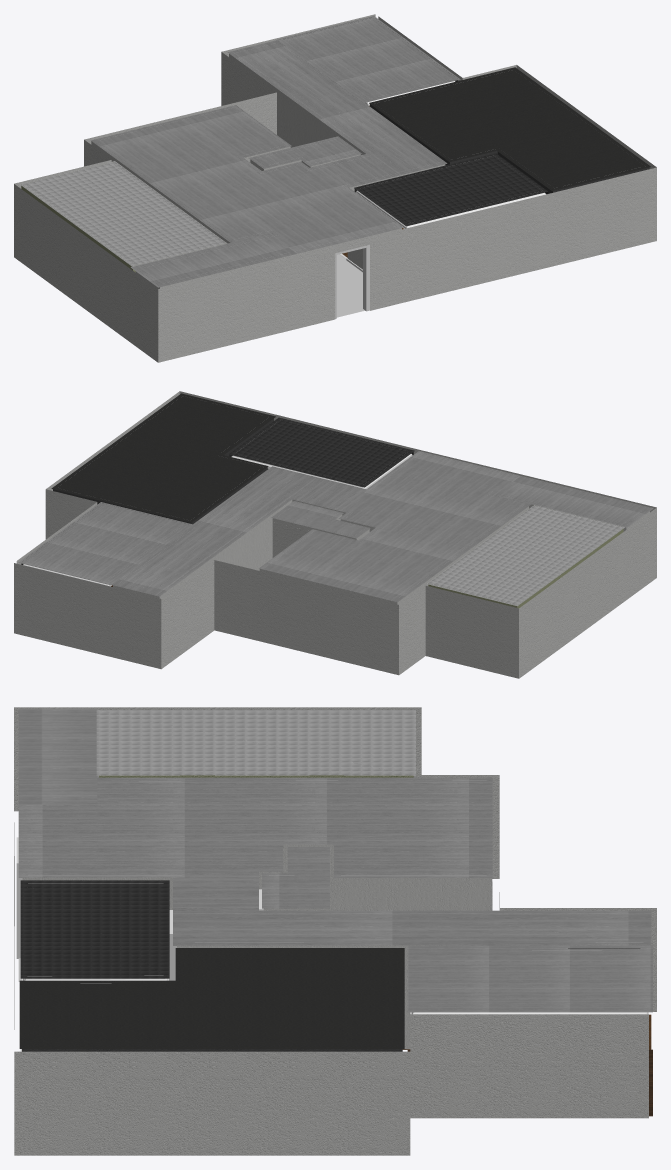
File: House.v06.fbx
3 views of the same model, one above another, from view 1: azimuth 30°, elevation 25°; view 2: azimuth 150°, elevation 25°; view 3: azimuth 270°, elevation 25° (orthographic). The views are drawn at different scales.
Visible parts, largest first — view 1: Walls_Outside, Ceiling_Living Room, Ceiling_Garage, Ceiling_Kitchen, Ceiling_Hall, Ceiling_Office, Ceiling_Bathroom, Ceiling_Stairs, Walls_Living_Room, Ceiling_Closet, Floor_Living Room, Walls_Garage (+2 smaller); view 2: Walls_Outside, Ceiling_Living Room, Ceiling_Garage, Ceiling_Kitchen, Ceiling_Hall, Ceiling_Office, Ceiling_Bathroom, Ceiling_Stairs, Walls_Living_Room, Ceiling_Closet, Walls_Closet, Walls_Garage (+2 smaller); view 3: Walls_Outside, Ceiling_Living Room, Ceiling_Garage, Ceiling_Kitchen, Ceiling_Hall, Ceiling_Office, Ceiling_Bathroom, Walls_Living_Room, Ceiling_Stairs, Ceiling_Closet, Walls_Garage, Walls_Kitchen (+1 smaller).
Boxes of the visible parts, x1,y1,x2,y2 form: Walls_Outside: (14, 14, 656, 362); Ceiling_Living Room: (91, 105, 403, 253); Ceiling_Garage: (369, 67, 650, 190); Ceiling_Kitchen: (20, 161, 227, 266); Ceiling_Hall: (228, 40, 447, 187); Ceiling_Office: (277, 16, 460, 102); Ceiling_Bathroom: (354, 153, 547, 226); Ceiling_Stairs: (131, 233, 296, 287); Walls_Living_Room: (91, 54, 445, 288); Ceiling_Closet: (249, 136, 361, 168); Floor_Living Room: (337, 254, 364, 317); Walls_Garage: (370, 103, 649, 193); Walls_Outside: (14, 391, 656, 678); Ceiling_Living Room: (259, 451, 530, 602); Ceiling_Garage: (51, 393, 275, 522); Ceiling_Kitchen: (427, 505, 625, 606); Ceiling_Hall: (111, 466, 366, 596); Ceiling_Office: (18, 502, 193, 585); Ceiling_Bathroom: (229, 417, 414, 487); Ceiling_Stairs: (495, 476, 653, 527); Walls_Living_Room: (113, 490, 649, 604); Ceiling_Closet: (271, 501, 370, 538); Walls_Closet: (272, 514, 369, 557); Walls_Garage: (53, 418, 273, 524); Walls_Outside: (14, 707, 656, 1155); Ceiling_Living Room: (18, 777, 492, 877); Ceiling_Garage: (19, 948, 404, 1048); Ceiling_Kitchen: (96, 710, 415, 775); Ceiling_Hall: (173, 878, 651, 945); Ceiling_Office: (407, 945, 652, 1012); Ceiling_Bathroom: (20, 880, 169, 978); Walls_Living_Room: (22, 778, 648, 1049); Ceiling_Stairs: (18, 708, 97, 804); Ceiling_Closet: (262, 847, 329, 908); Walls_Garage: (22, 981, 402, 1051); Walls_Kitchen: (99, 775, 413, 777).
Size of the model in its own units: 2664 by 379 by 2104.
